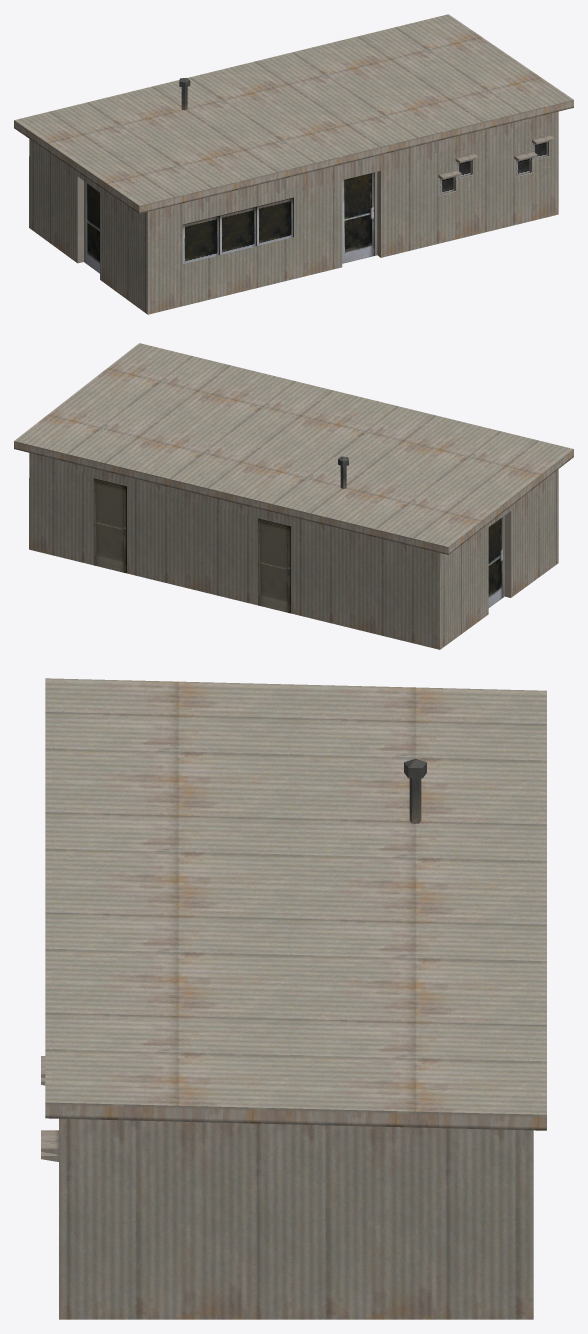
The model's file is drvin_projhut.obj.
The picture shows the model from 3 angles, top to bottom: view 1: azimuth 30°, elevation 25°; view 2: azimuth 150°, elevation 25°; view 3: azimuth 270°, elevation 25°; orthographic projection. The views are drawn at different scales.
Visible parts, largest first — view 1: drvin_projhut; view 2: drvin_projhut; view 3: drvin_projhut.
Part boxes in pixels (left/top/right/bottom): drvin_projhut: left=14, top=14, right=573, bottom=314; drvin_projhut: left=14, top=343, right=573, bottom=649; drvin_projhut: left=41, top=678, right=546, bottom=1319.
Size of the model in its own units: 10.57 by 3.27 by 5.33.
Materials: 8 (8 with a texture image).
